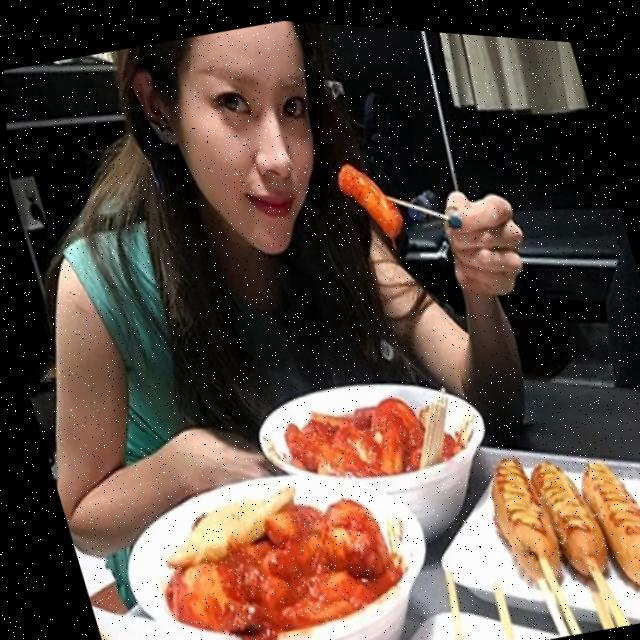eating-person: (0, 0, 615, 620)
